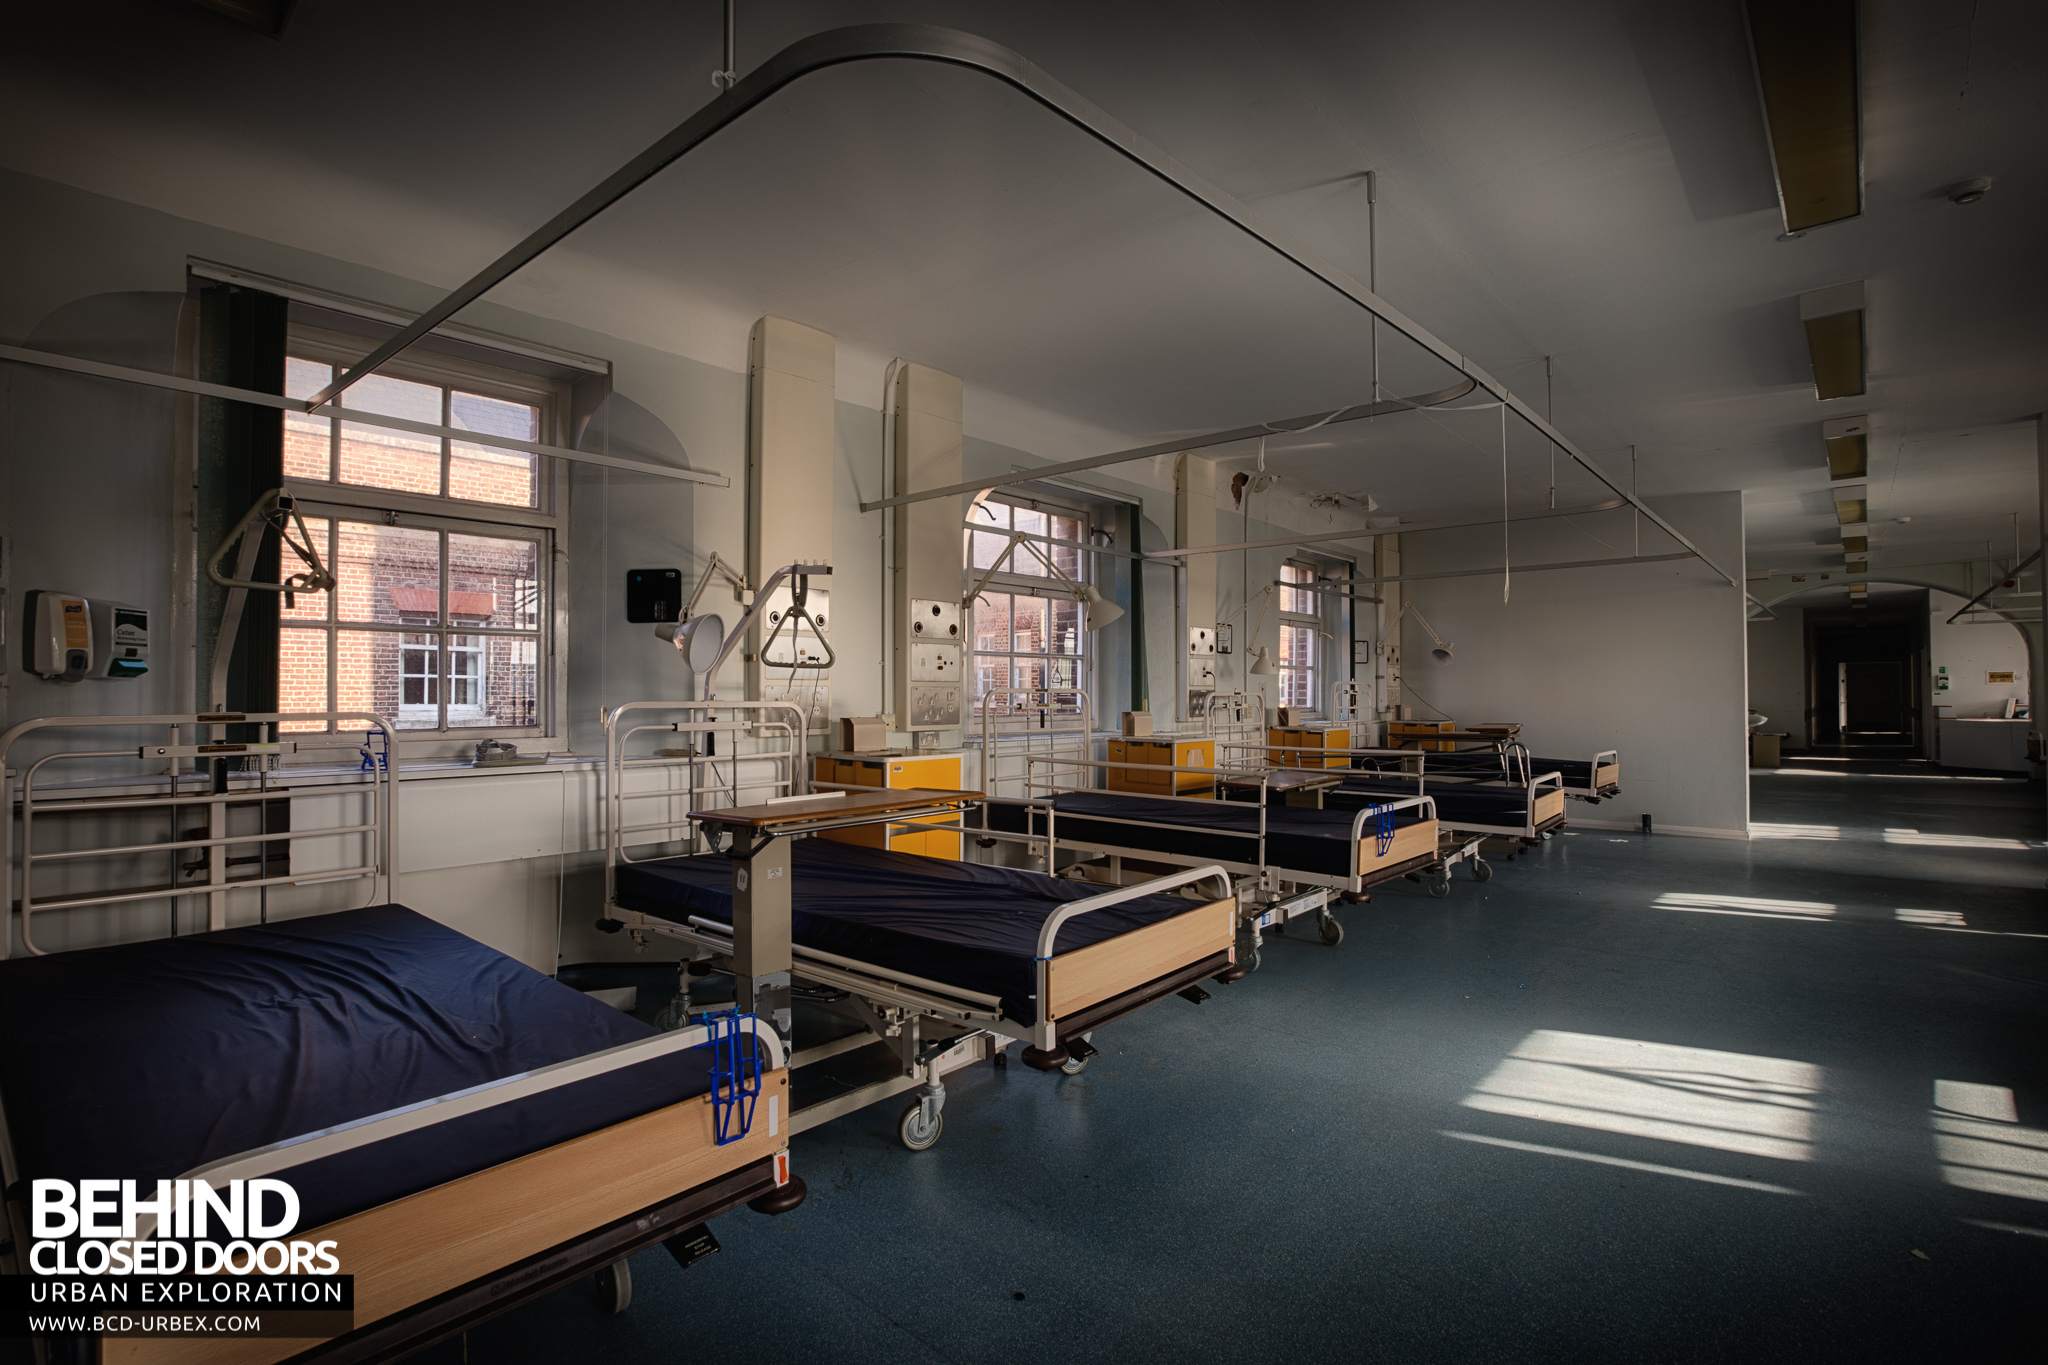hospital bed: (12, 836, 813, 1220), (621, 804, 1271, 972), (993, 765, 1488, 877)
